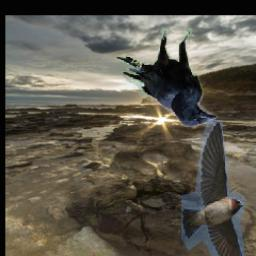Crow: (115, 29, 218, 128)
Swallow: (181, 120, 245, 256)
